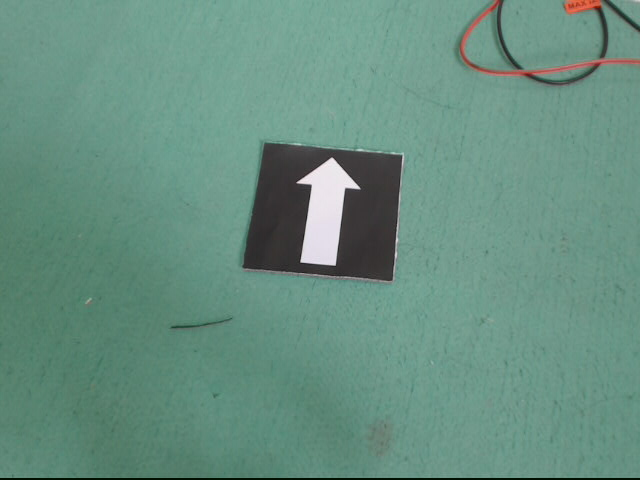straight: (242, 142, 404, 281)
